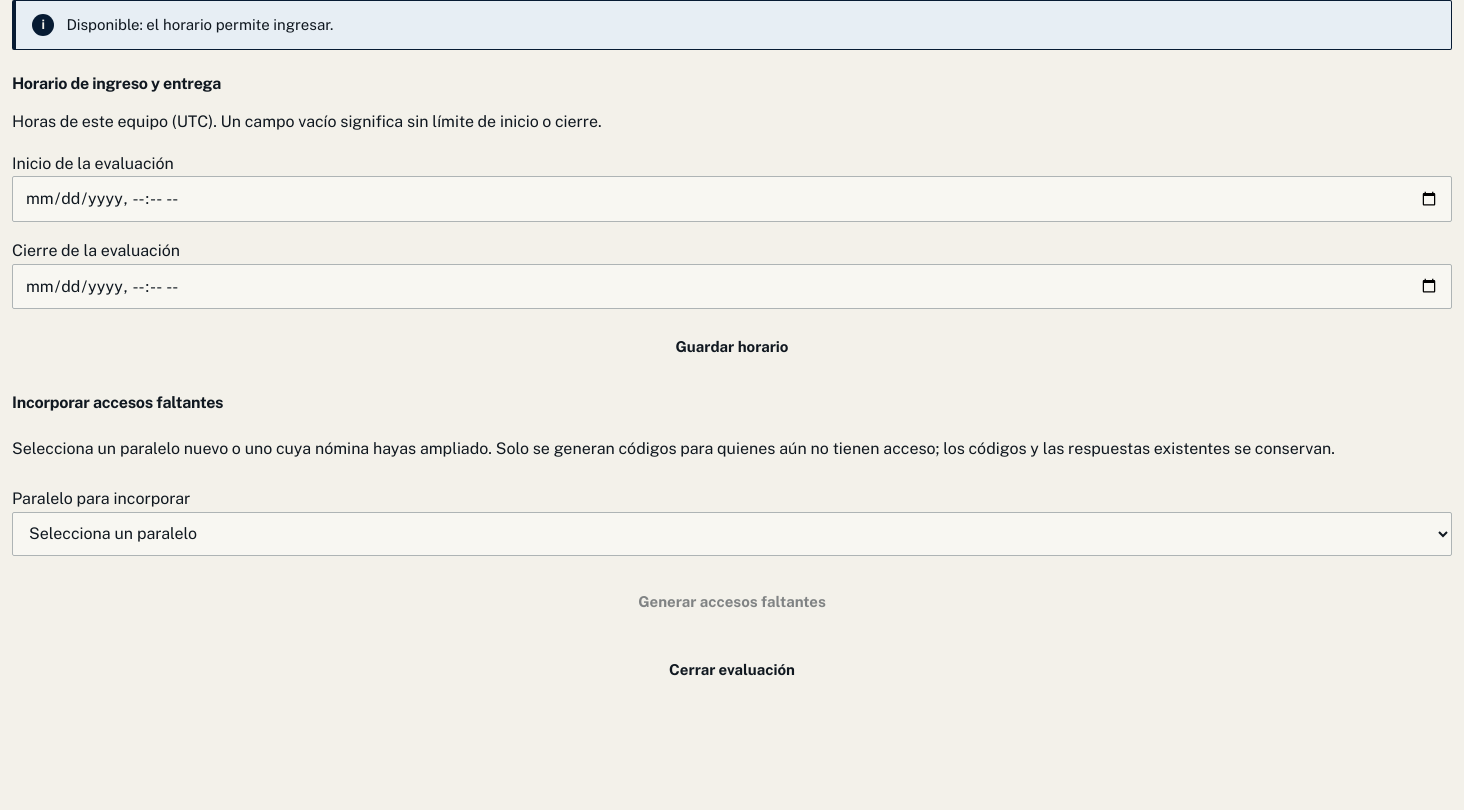
Test: guarda el horario sin cambiar contenido ni identificador
The width and height of the screenshot is (1464, 810).
Click the button "Guardar horario".
click(732, 347)  # box [12,325,1452,369]
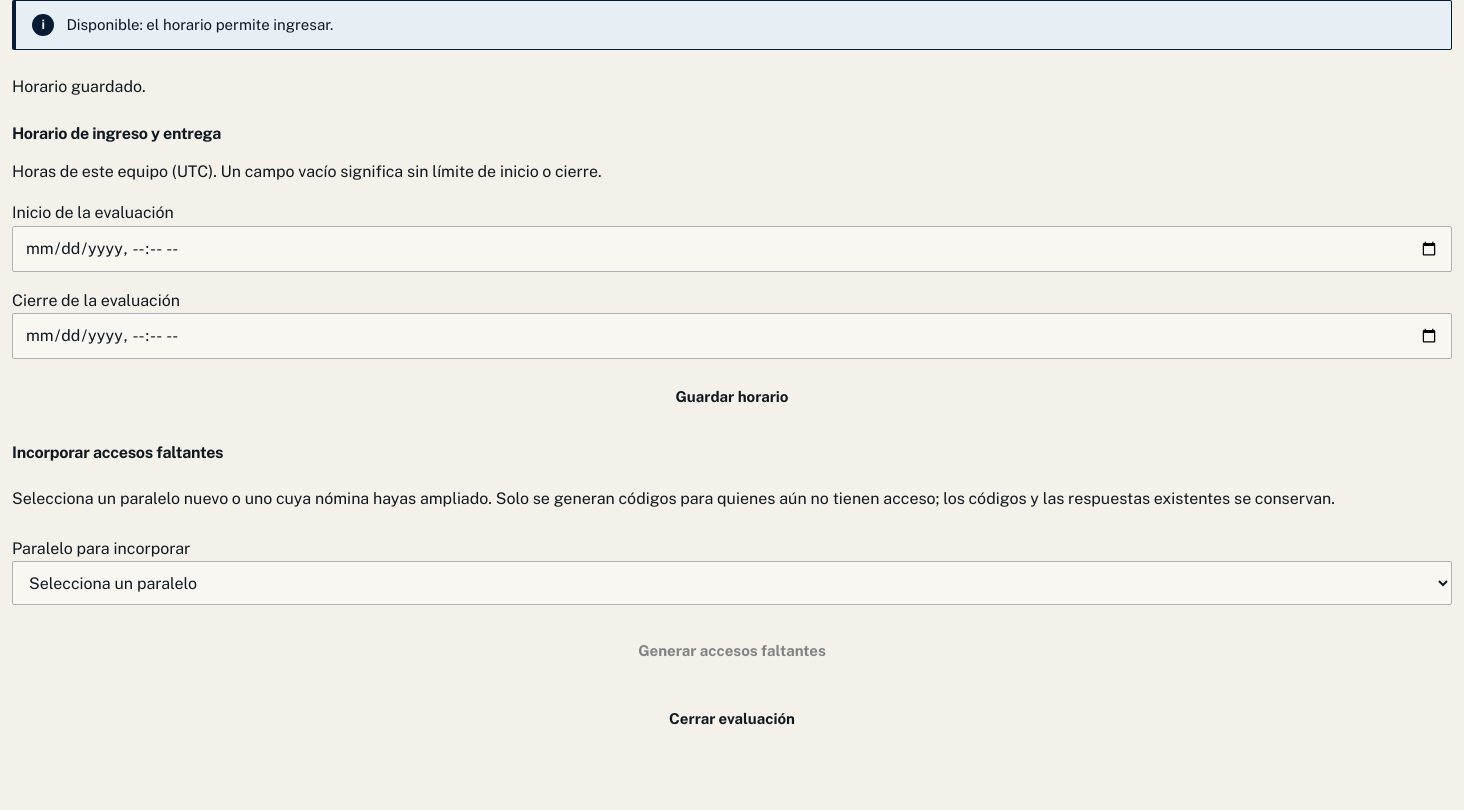
Result: the text "Horario guardado." is shown at [12,77,146,96]
